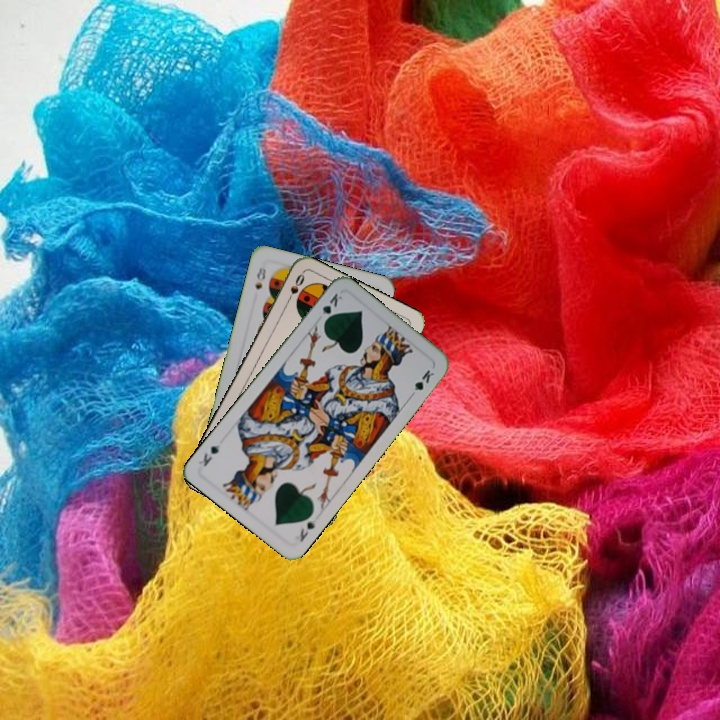GK: (317, 289, 346, 326), (295, 515, 319, 544)
S8: (251, 262, 269, 292)
SO: (282, 270, 307, 307)
